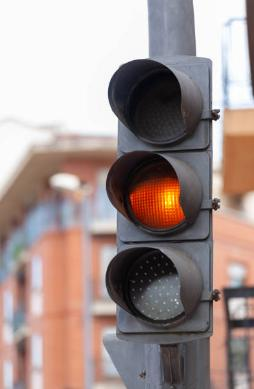yellow_light: (106, 58, 220, 333)
